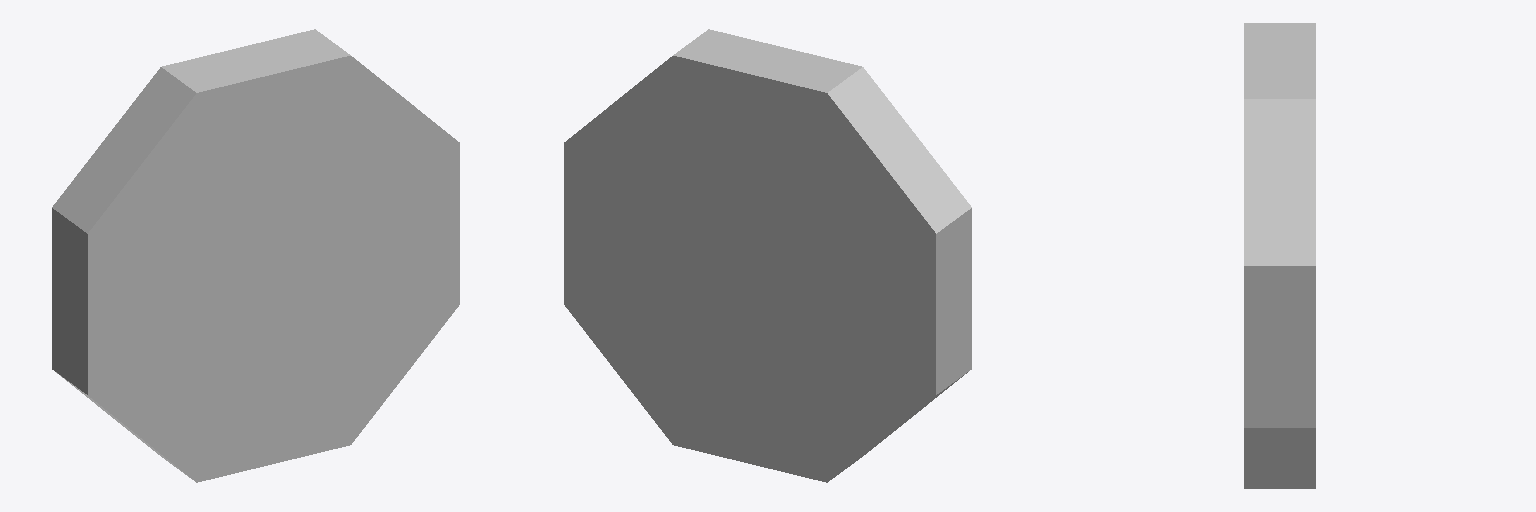
Rendered from Coin.obj.
3 renders of one model, left to right at view 1: azimuth 30°, elevation 25°; view 2: azimuth 150°, elevation 25°; view 3: azimuth 270°, elevation 25°, orthographic.
Parts seen in each view (by area): view 1: cylinder; view 2: cylinder; view 3: cylinder.
Boxes of the visible parts, <box> form: cylinder: <box>52,29,459,482</box>; cylinder: <box>564,29,971,482</box>; cylinder: <box>1244,23,1315,488</box>.
Size of the model in its own units: 0.375 by 0.375 by 0.0625.